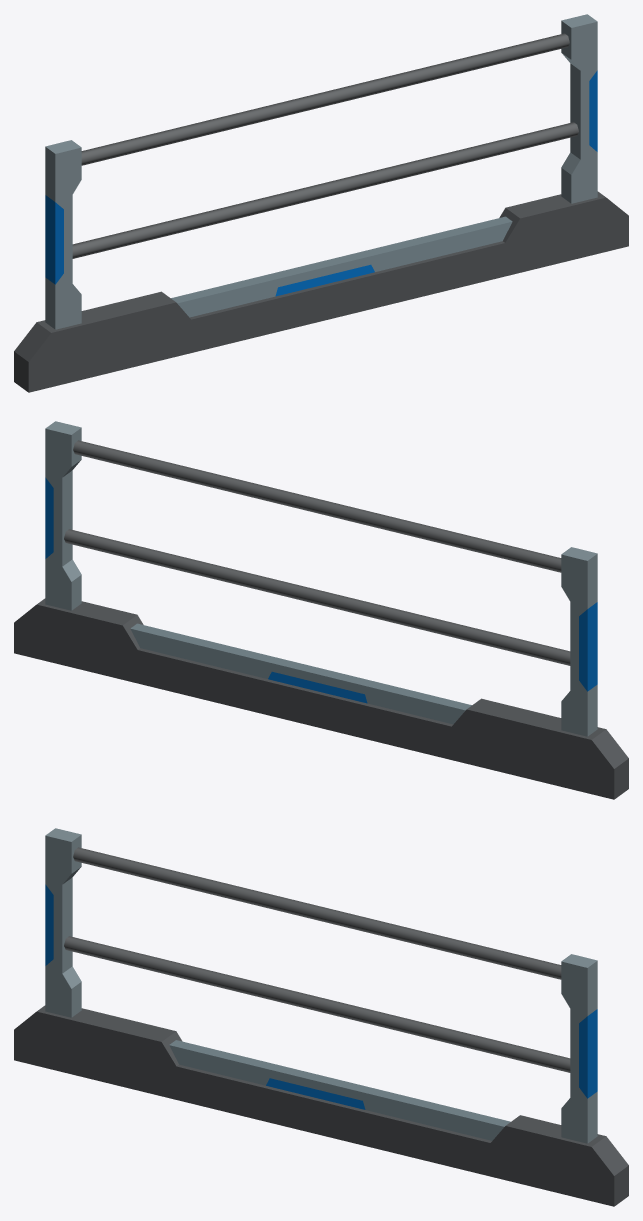
Rendered from Fence_type_B_007.fbx.
3 renders of one model, top to bottom at view 1: azimuth 30°, elevation 25°; view 2: azimuth 150°, elevation 25°; view 3: azimuth 330°, elevation 25°, orthographic.
Visible parts, largest first — view 1: Fence_type_B_007; view 2: Fence_type_B_007; view 3: Fence_type_B_007.
Part boxes in pixels (x1,y1,x2,y2): Fence_type_B_007: [14, 14, 628, 392]; Fence_type_B_007: [14, 421, 628, 799]; Fence_type_B_007: [14, 828, 628, 1206].
Bounding box in the file's own units: 389 × 16.53 × 142.
